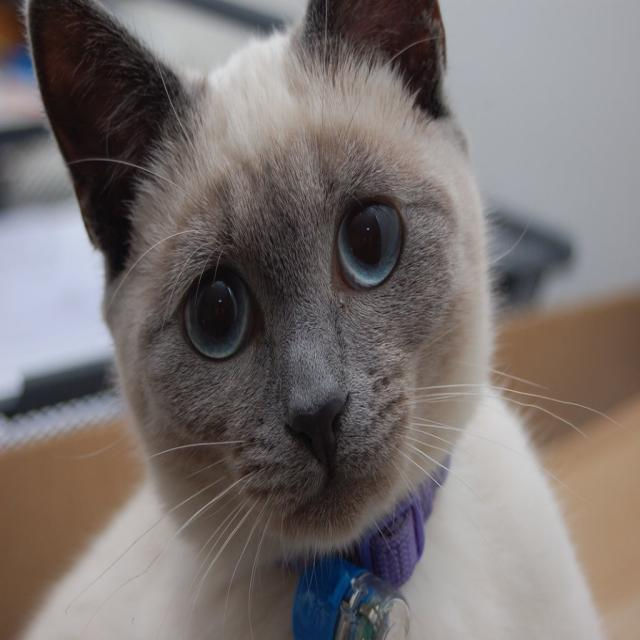Cat: (17, 0, 634, 639)
